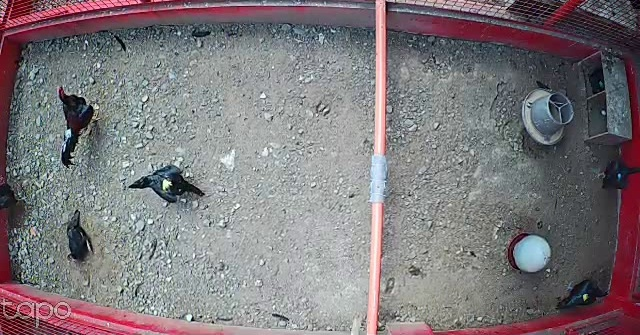Chicken: (127, 162, 207, 206), (554, 271, 609, 315), (60, 210, 95, 263), (597, 154, 640, 194)
Rooster: (59, 79, 107, 167)
Saddle_Color_Blue: (617, 172, 623, 180)
Saddle_Color_Yellow: (161, 178, 173, 191)
Saddle_Color_YellowGreen: (582, 293, 591, 303)
